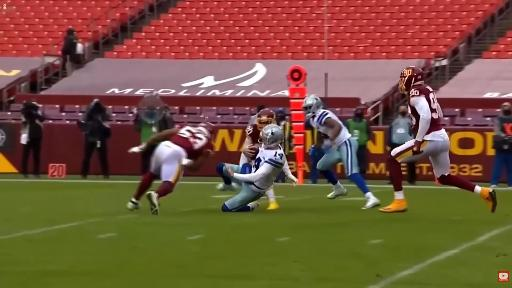Helmet: (399, 67, 424, 93), (260, 124, 284, 146), (303, 96, 322, 118), (257, 109, 275, 130), (198, 122, 214, 137)
Jersey: (408, 85, 447, 140), (252, 147, 286, 191), (310, 110, 351, 145), (170, 126, 213, 159), (246, 124, 260, 146)
Player: (380, 67, 497, 212), (303, 96, 380, 209), (127, 123, 214, 214), (222, 125, 286, 211), (239, 109, 275, 166)
